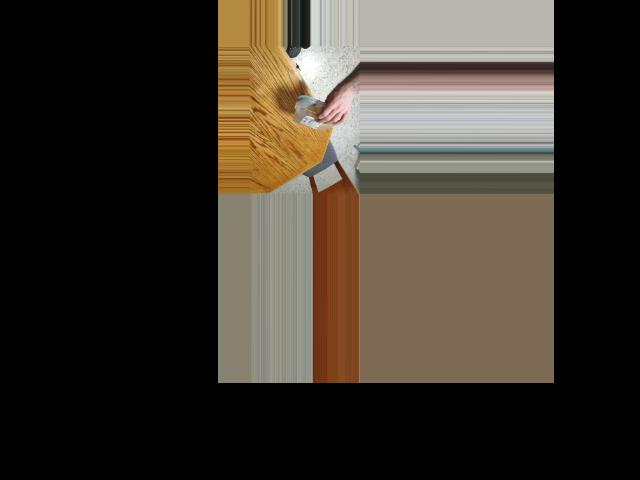cheese: (296, 97, 335, 131)
